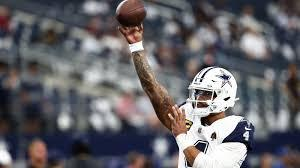americanFootball: (117, 0, 146, 26)
